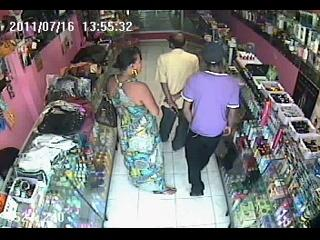Normal: (106, 46, 177, 196), (180, 42, 240, 198), (156, 33, 200, 152)
